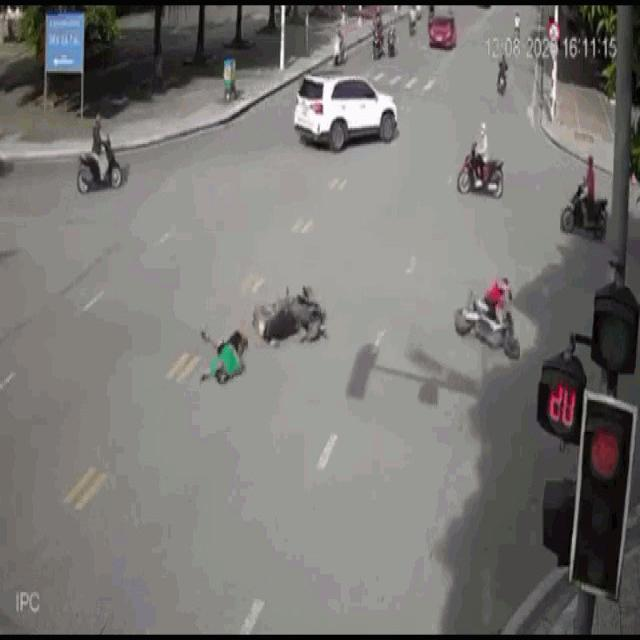multiple_accident: (196, 270, 330, 395), (453, 261, 525, 368)
